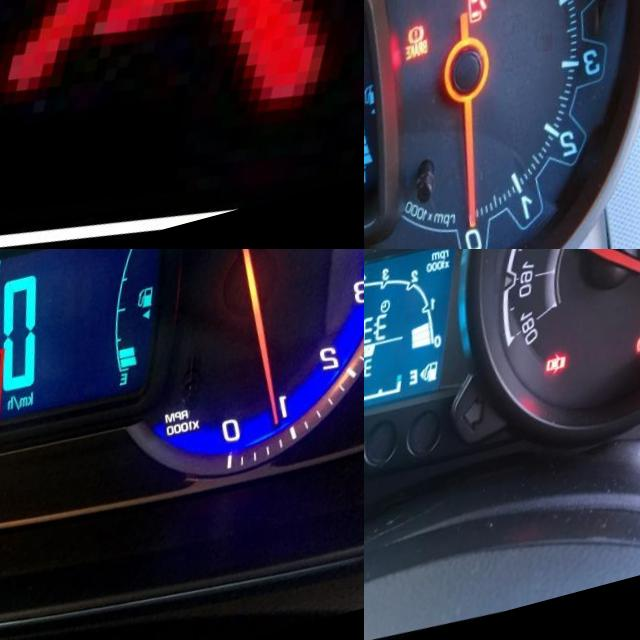Doors: (469, 3, 496, 49), (553, 368, 575, 394)
